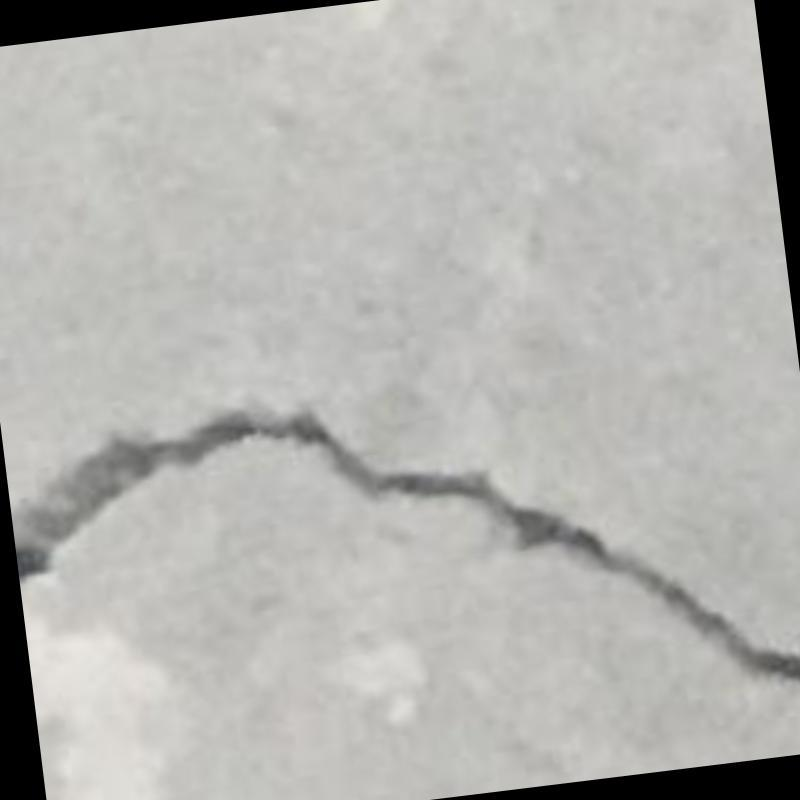pothole: (16, 410, 800, 687)
